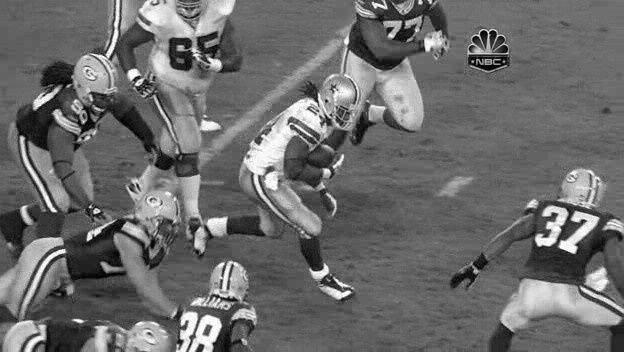person: (325, 76, 361, 127), (324, 76, 360, 127), (326, 76, 362, 127), (325, 75, 361, 126), (325, 77, 361, 128)
target_negative: (560, 22, 620, 253), (130, 9, 605, 33), (466, 239, 480, 321), (417, 279, 433, 314), (598, 293, 615, 302), (552, 323, 570, 326)
